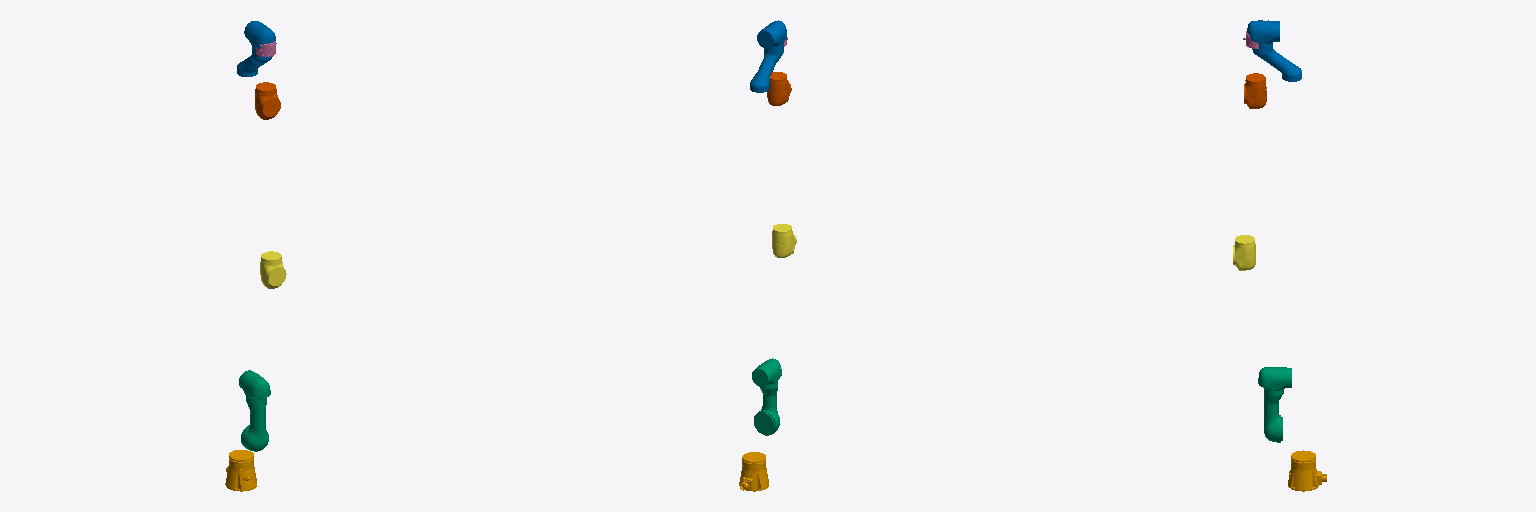
URDF robot description (rb10_1300e_u):
<?xml version="1.0" ?>
<!-- =================================================================================== -->
<!-- |    This document was autogenerated by xacro from rb10_1300e_u.urdf.xacro        | -->
<!-- |    EDITING THIS FILE BY HAND IS NOT RECOMMENDED                                 | -->
<!-- =================================================================================== -->
<robot name="rb10_1300e_u">
  <link name="link0">
    <visual>
      <geometry>
        <mesh filename="package://rbpodo_description/meshes/rb10_1300e_u/visual/link0.dae"/>
      </geometry>
    </visual>
    <collision>
      <geometry>
        <mesh filename="package://rbpodo_description/meshes/rb10_1300e_u/collision/link0.stl"/>
      </geometry>
    </collision>
  </link>
  <link name="link1">
    <visual>
      <geometry>
        <mesh filename="package://rbpodo_description/meshes/rb10_1300e_u/visual/link1.dae"/>
      </geometry>
    </visual>
    <collision>
      <geometry>
        <mesh filename="package://rbpodo_description/meshes/rb10_1300e_u/collision/link1.stl"/>
      </geometry>
    </collision>
    <inertial>
      <origin rpy="0 0 0" xyz="0.000021 -0.007855 -0.042537"/>
      <mass value="8.366"/>
      <inertia ixx="0.027403652" ixy="-5.926e-06" ixz="-1.0119e-05" iyy="0.027770573" iyz="0.003030512" izz="0.026140211"/>
    </inertial>
  </link>
  <link name="link2">
    <visual>
      <geometry>
        <mesh filename="package://rbpodo_description/meshes/rb10_1300e_u/visual/link2.dae"/>
      </geometry>
    </visual>
    <collision>
      <geometry>
        <mesh filename="package://rbpodo_description/meshes/rb10_1300e_u/collision/link2.stl"/>
      </geometry>
    </collision>
    <inertial>
      <origin rpy="0 0 0" xyz="-0.000013 -0.155462 0.225241"/>
      <mass value="15.61"/>
      <inertia ixx="1.140650644" ixy="-1.3042e-05" ixz="-6.7084e-05" iyy="1.134398623" iyz="0.024507884" izz="0.050849068"/>
    </inertial>
  </link>
  <link name="link3">
    <visual>
      <geometry>
        <mesh filename="package://rbpodo_description/meshes/rb10_1300e_u/visual/link3.dae"/>
      </geometry>
    </visual>
    <collision>
      <geometry>
        <mesh filename="package://rbpodo_description/meshes/rb10_1300e_u/collision/link3.stl"/>
      </geometry>
    </collision>
    <inertial>
      <origin rpy="0 0 0" xyz="-0.000048 -0.013885 0.325013"/>
      <mass value="5.69"/>
      <inertia ixx="0.312033029" ixy="9.298e-06" ixz="1.169e-05" iyy="0.311287646" iyz="0.005331552" izz="0.011397824"/>
    </inertial>
  </link>
  <link name="link4">
    <visual>
      <geometry>
        <mesh filename="package://rbpodo_description/meshes/rb10_1300e_u/visual/link4.dae"/>
      </geometry>
    </visual>
    <collision>
      <geometry>
        <mesh filename="package://rbpodo_description/meshes/rb10_1300e_u/collision/link4.stl"/>
      </geometry>
    </collision>
    <inertial>
      <origin rpy="0 0 0" xyz="0.000093 -0.113949 0.026461"/>
      <mass value="2.062"/>
      <inertia ixx="0.0027111" ixy="-8.022e-06" ixz="1.1208e-05" iyy="0.002715407" iyz="0.000144243" izz="0.002157043"/>
    </inertial>
  </link>
  <link name="link5">
    <visual>
      <geometry>
        <mesh filename="package://rbpodo_description/meshes/rb10_1300e_u/visual/link5.dae"/>
      </geometry>
    </visual>
    <collision>
      <geometry>
        <mesh filename="package://rbpodo_description/meshes/rb10_1300e_u/collision/link5.stl"/>
      </geometry>
    </collision>
    <inertial>
      <origin rpy="0 0 0" xyz="-0.000093 -0.026434 -0.003233"/>
      <mass value="2.061"/>
      <inertia ixx="0.002706437" ixy="1.1205e-05" ixz="-8.016e-06" iyy="0.002153592" iyz="0.000141528" izz="0.002712272"/>
    </inertial>
  </link>
  <link name="link6">
    <visual>
      <geometry>
        <mesh filename="package://rbpodo_description/meshes/rb10_1300e_u/visual/link6.dae"/>
      </geometry>
    </visual>
    <collision>
      <geometry>
        <mesh filename="package://rbpodo_description/meshes/rb10_1300e_u/collision/link6.stl"/>
      </geometry>
    </collision>
    <inertial>
      <origin rpy="0 0 0" xyz="-0.000210 -0.092540 -0.000292"/>
      <mass value="0.406"/>
      <inertia ixx="0.000345314" ixy="5.73e-07" ixz="6.61e-07" iyy="0.000532873" iyz="-5.4e-08" izz="0.000340021"/>
    </inertial>
  </link>
  <link name="eoat">
    <visual>
      <geometry>
        <mesh filename="package://rbpodo_description/meshes/rb10_1300e_u/visual/eoat.dae"/>
      </geometry>
    </visual>
    <collision>
      <geometry>
        <mesh filename="package://rbpodo_description/meshes/rb10_1300e_u/collision/eoat.stl"/>
      </geometry>
    </collision>
    <inertial>
      <origin rpy="0 0 0" xyz="0 0 0"/>
      <mass value="4"/>
      <inertia ixx="0" ixy="0" ixz="0" iyy="0" iyz="0" izz="0"/>
    </inertial>
  </link>
  <link name="tcp"/>
  <joint name="base" type="revolute">
    <origin rpy="0 0 0" xyz="0 0 0"/>
    <parent link="link0"/>
    <child link="link1"/>
    <axis xyz="0 0 1"/>
    <limit effort="10" lower="-6.28" upper="6.28" velocity="3.14"/>
  </joint>
  <joint name="shoulder" type="revolute">
    <origin rpy="0 0 0" xyz="0 0 0.197"/>
    <parent link="link1"/>
    <child link="link2"/>
    <axis xyz="0 1 0"/>
    <limit effort="10" lower="-6.28" upper="6.28" velocity="3.14"/>
  </joint>
  <joint name="elbow" type="revolute">
    <origin rpy="0 0 0" xyz="0 -0.1875 0.6127"/>
    <parent link="link2"/>
    <child link="link3"/>
    <axis xyz="0 1 0"/>
    <limit effort="10" lower="-2.87" upper="2.87" velocity="3.14"/>
  </joint>
  <joint name="wrist1" type="revolute">
    <origin rpy="0 0 0" xyz="0 0.1514 0.57015"/>
    <parent link="link3"/>
    <child link="link4"/>
    <axis xyz="0 1 0"/>
    <limit effort="10" lower="-6.28" upper="6.28" velocity="3.14"/>
  </joint>
  <joint name="wrist2" type="revolute">
    <origin rpy="0 0 0" xyz="0 -0.11715 0"/>
    <parent link="link4"/>
    <child link="link5"/>
    <axis xyz="0 0 1"/>
    <limit effort="10" lower="-6.28" upper="6.28" velocity="3.14"/>
  </joint>
  <joint name="wrist3" type="revolute">
    <origin rpy="0 0 0" xyz="0 0 0.11715"/>
    <parent link="link5"/>
    <child link="link6"/>
    <axis xyz="0 1 0"/>
    <limit effort="10" lower="-6.28" upper="6.28" velocity="3.14"/>
  </joint>
  <joint name="eoat_joint" type="fixed">
    <origin rpy="0 0 0" xyz="0 -0.1153 0"/>
    <parent link="link6"/>
    <child link="eoat"/>
  </joint>
  <joint name="tcp_joint" type="fixed">
    <origin rpy="0 -1.57079632679 3.14159265359" xyz="0.143832 -0.1447 0.04234"/>
    <parent link="eoat"/>
    <child link="tcp"/>
  </joint>
  <ros2_control name="RBPodoHardwareInterface" type="system">
    <hardware>
      <plugin>mock_components/GenericSystem</plugin>
      <param name="mock_sensor_commands">False</param>
      <param name="state_following_offset">0.0</param>
    </hardware>
    <joint name="base">
      <param name="initial_position">0.0</param>
      <param name="torque_constant">1</param>
      <command_interface name="effort"/>
      <command_interface name="velocity"/>
      <command_interface name="position"/>
      <state_interface name="position"/>
      <state_interface name="effort"/>
    </joint>
    <joint name="shoulder">
      <param name="initial_position">0.0</param>
      <param name="torque_constant">1</param>
      <command_interface name="effort"/>
      <command_interface name="velocity"/>
      <command_interface name="position"/>
      <state_interface name="position"/>
      <state_interface name="effort"/>
    </joint>
    <joint name="elbow">
      <param name="initial_position">0.0</param>
      <param name="torque_constant">1</param>
      <command_interface name="effort"/>
      <command_interface name="velocity"/>
      <command_interface name="position"/>
      <state_interface name="position"/>
      <state_interface name="effort"/>
    </joint>
    <joint name="wrist1">
      <param name="initial_position">0.0</param>
      <param name="torque_constant">1</param>
      <command_interface name="effort"/>
      <command_interface name="velocity"/>
      <command_interface name="position"/>
      <state_interface name="position"/>
      <state_interface name="effort"/>
    </joint>
    <joint name="wrist2">
      <param name="initial_position">0.0</param>
      <param name="torque_constant">1</param>
      <command_interface name="effort"/>
      <command_interface name="velocity"/>
      <command_interface name="position"/>
      <state_interface name="position"/>
      <state_interface name="effort"/>
    </joint>
    <joint name="wrist3">
      <param name="initial_position">0.0</param>
      <param name="torque_constant">1</param>
      <command_interface name="effort"/>
      <command_interface name="velocity"/>
      <command_interface name="position"/>
      <state_interface name="position"/>
      <state_interface name="effort"/>
    </joint>
  </ros2_control>
</robot>

--- Render facts (derived) ---
3 views of the same robot in one strip: view 1: azimuth 30°, elevation 25°; view 2: azimuth 150°, elevation 25°; view 3: azimuth 270°, elevation 25° (orthographic).
Robot: rb10_1300e_u — 9 links, 8 joints (6 revolute, 2 fixed); root link link0; default pose: every joint at zero.
Links seen in each view (by area): view 1: link2, link0, link4, link3, link5; view 2: link2, link4, link0, link3, link5; view 3: link2, link4, link0, link3, link5.
Link boxes in pixels (x1,y1,x2,y2): link2: [239, 370, 270, 451]; link0: [225, 450, 256, 491]; link4: [237, 21, 276, 76]; link3: [260, 251, 286, 288]; link5: [255, 82, 280, 119]; link2: [752, 358, 781, 435]; link4: [750, 20, 786, 92]; link0: [739, 452, 768, 491]; link3: [772, 224, 796, 257]; link5: [767, 72, 791, 105]; link2: [1258, 367, 1291, 442]; link4: [1247, 20, 1301, 81]; link0: [1288, 450, 1326, 491]; link3: [1233, 235, 1255, 270]; link5: [1244, 73, 1266, 108].
Bounding box of the posed robot: 0.0999 × 0.3004 × 1.63 m (x, y, z).
Meshes: 8 distinct files referenced, 6 mesh visuals loaded (6 Collada DAE); not drawn: 2 (reference not matched to a file when rendering).
